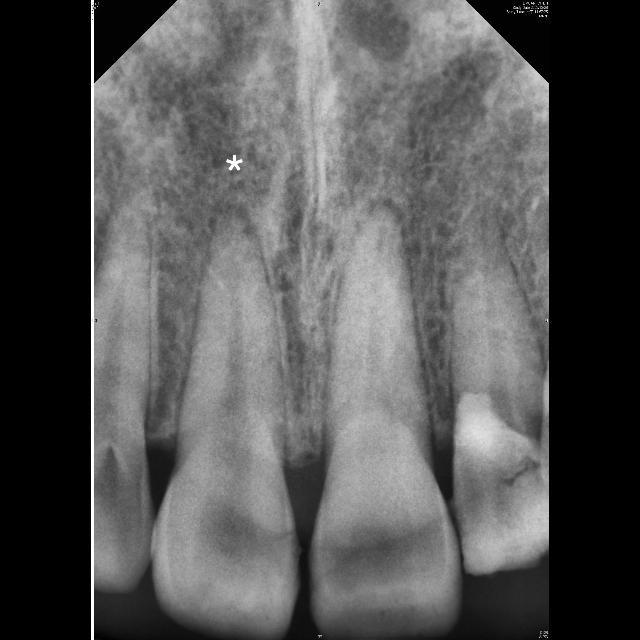test-segment: (154, 204, 298, 640)
